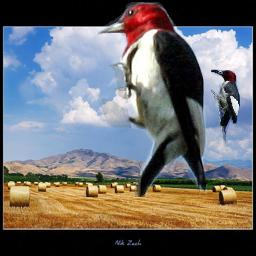Woodpecker: (93, 2, 209, 197), (211, 69, 240, 143)
